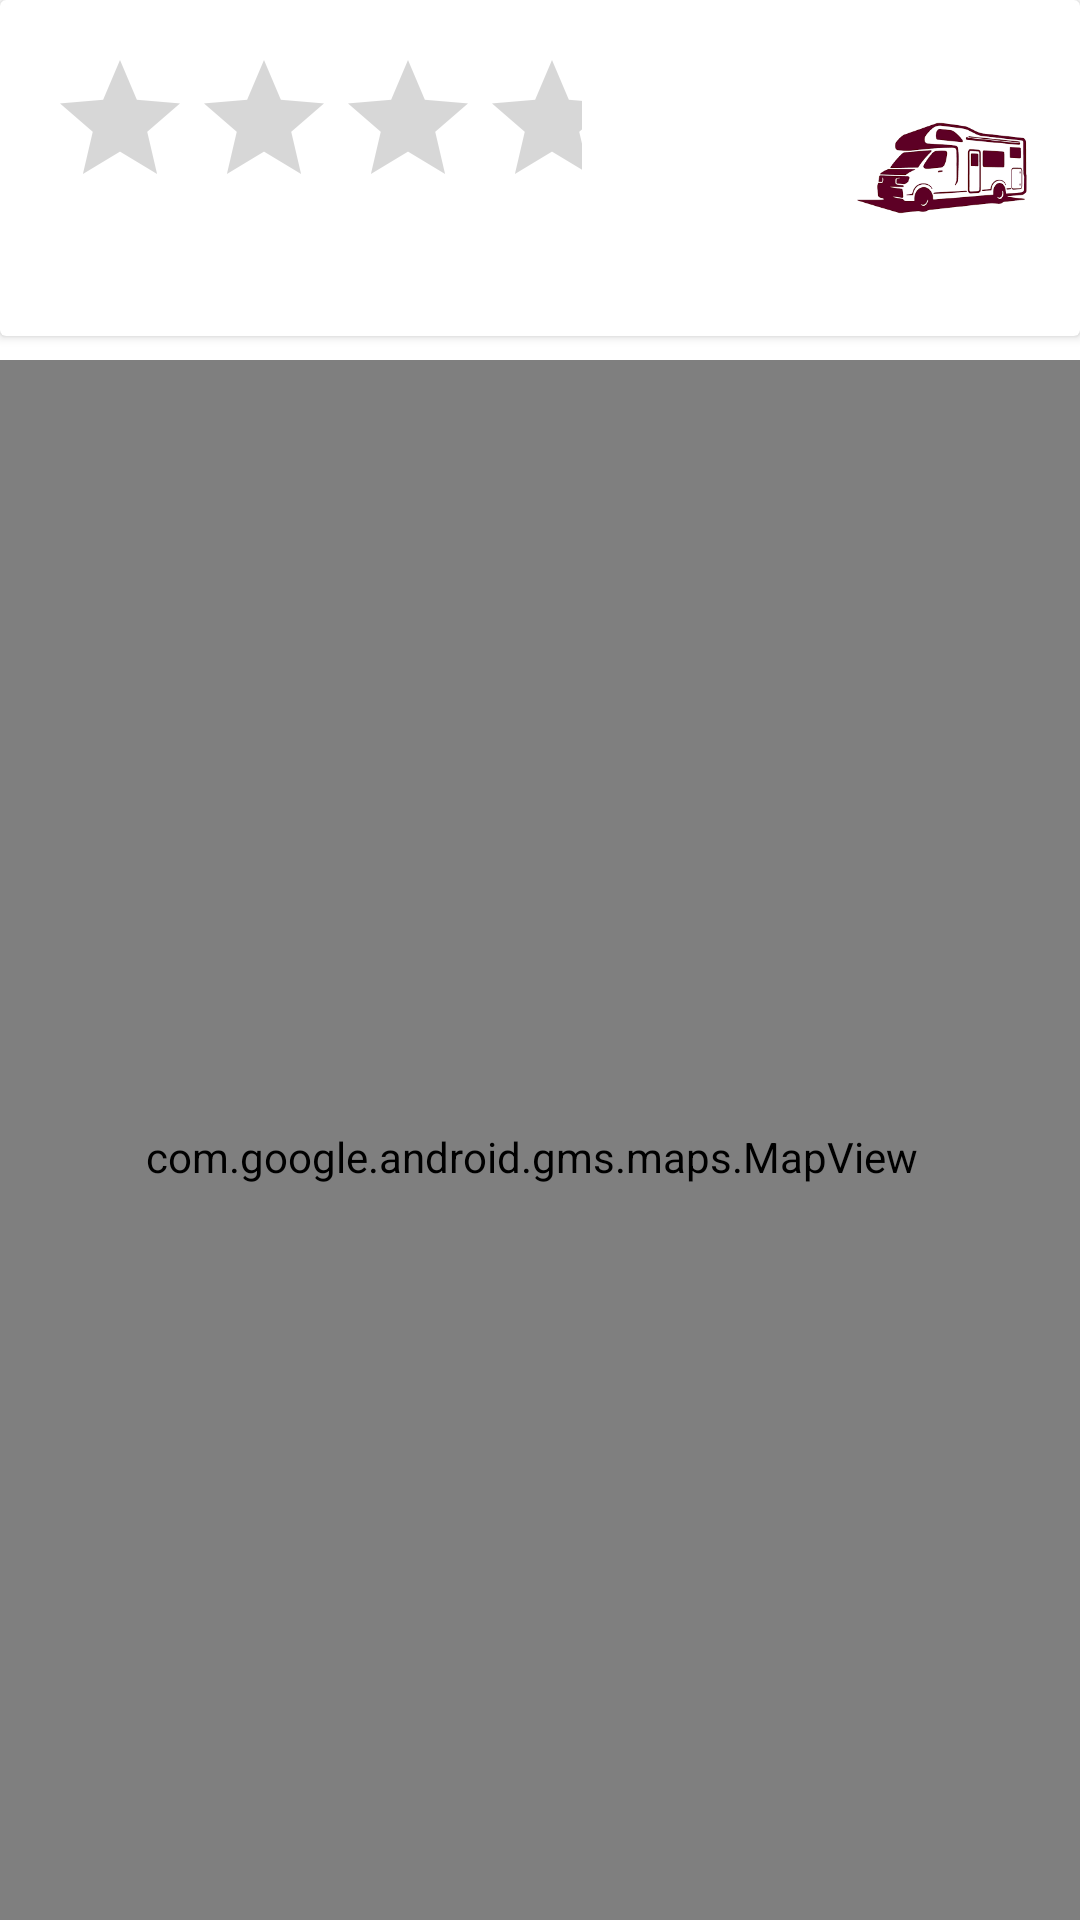

Named icons in this screenshot (1080×1920) and their bounding boxes, bbox(x1, y1, x2, y2):
camper: bbox(857, 123, 1027, 213)
